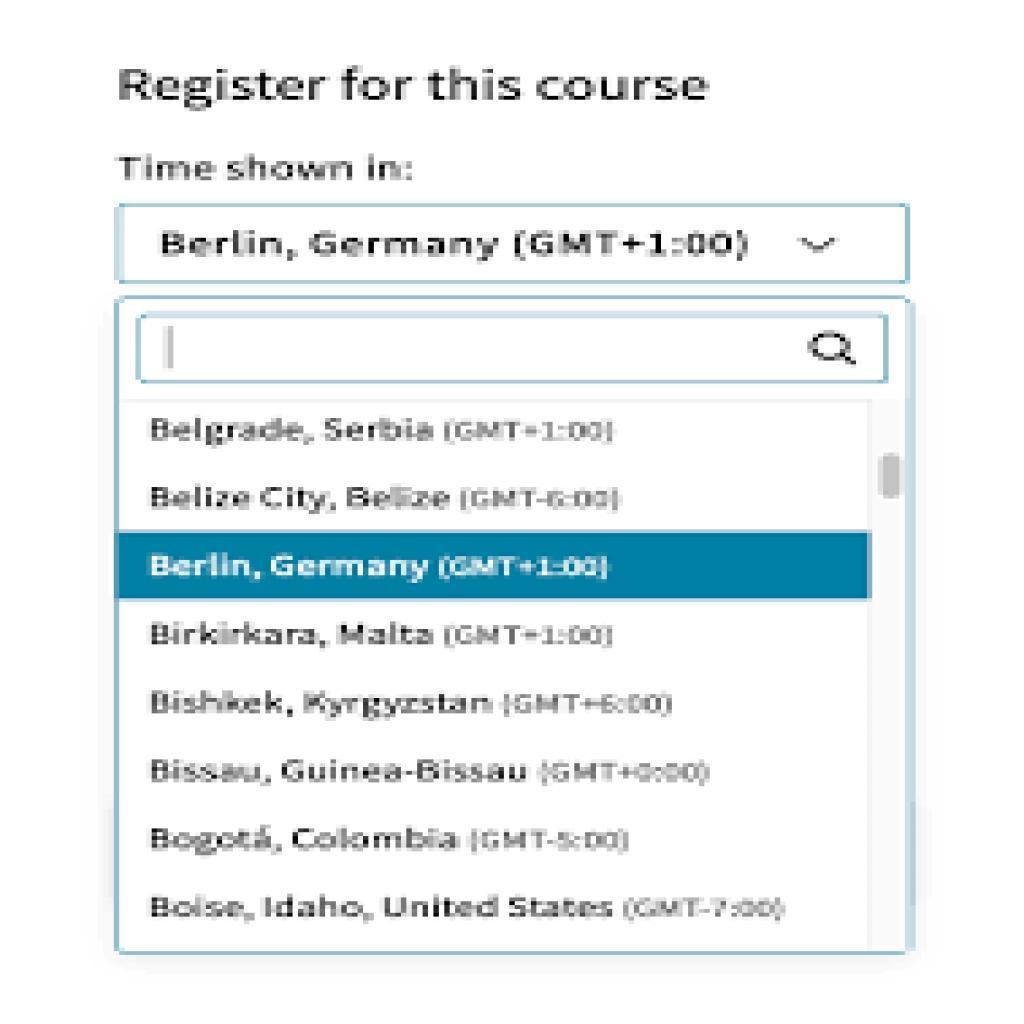dropdown: (117, 206, 910, 287)
input: (139, 315, 887, 385)
